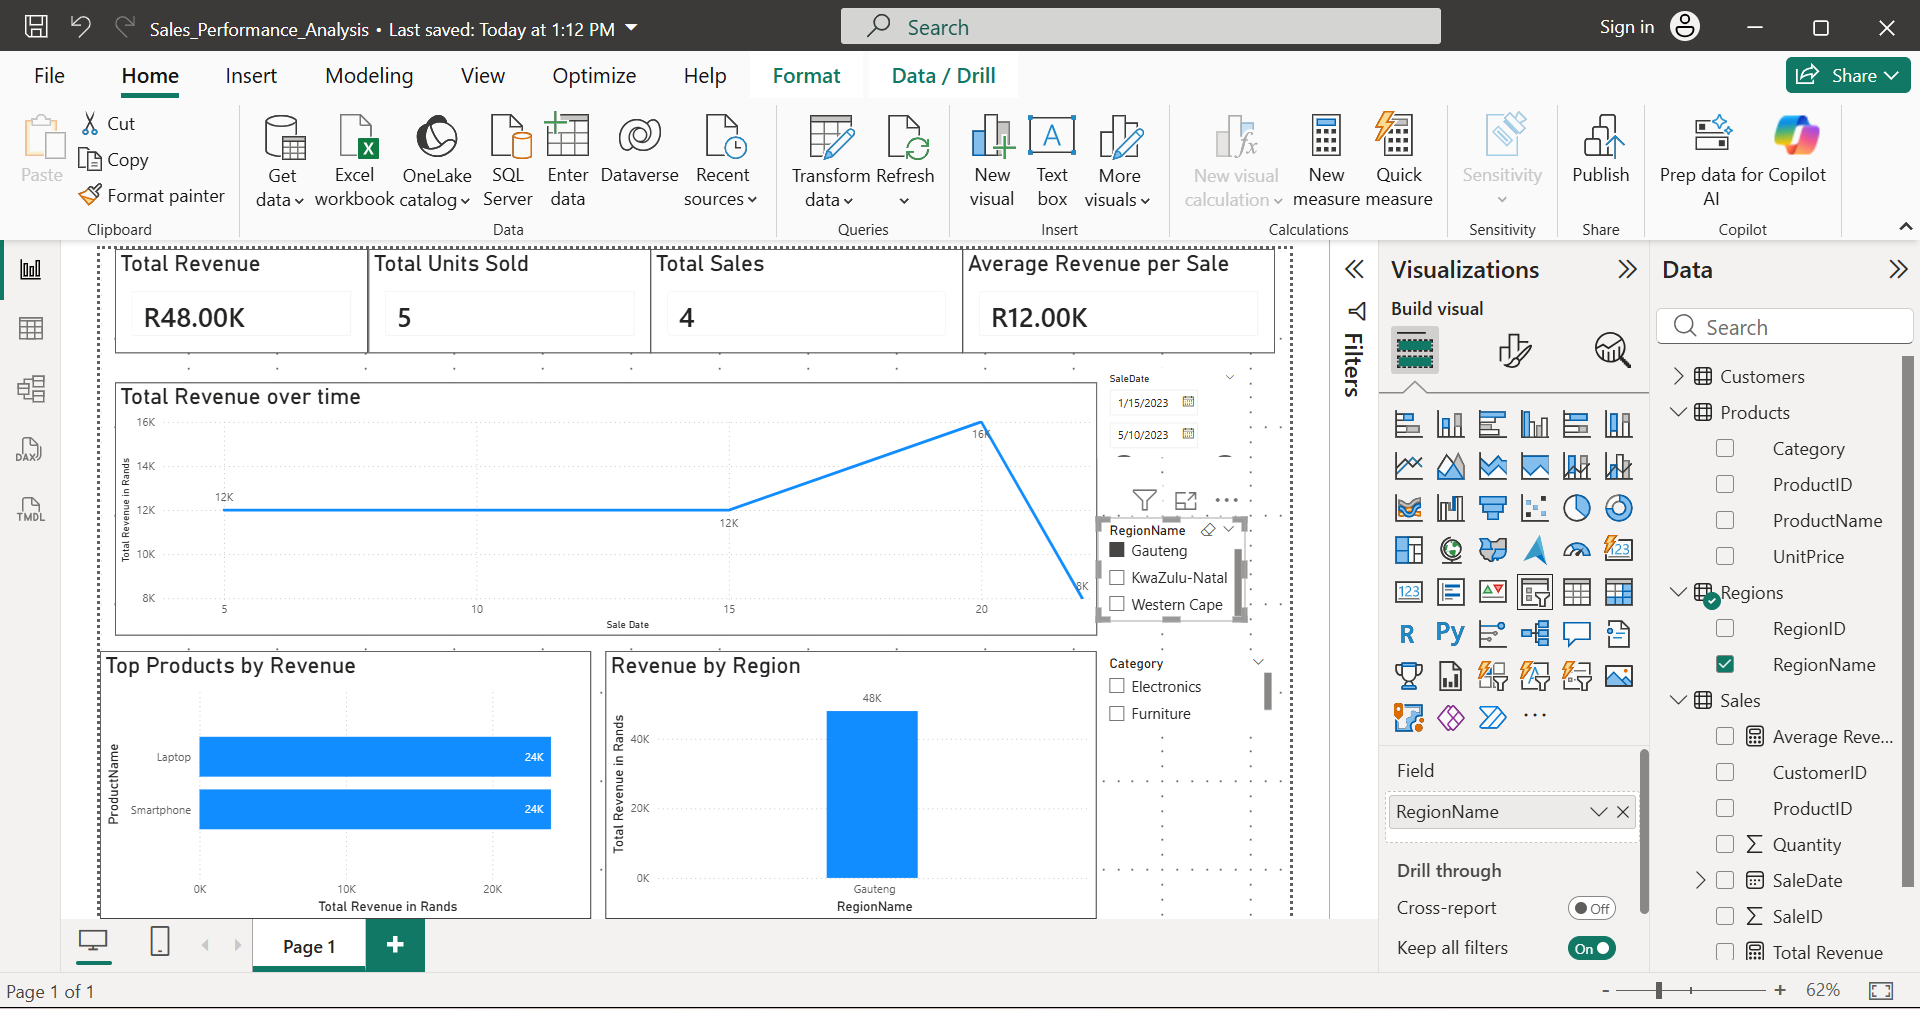

What the dashboard file says about the page in this screenshot:
{"tool":"powerbi","page":{"name":"Page 1","canvas":[1280,720],"ordinal":0},"visuals":[{"type":"cardVisual","title":"Total Revenue","fields":{"Data":["Sales.Total Revenue"]},"box":[16,0,272,112],"z":0},{"type":"cardVisual","title":"Total Units Sold","fields":{"Data":["Sales.Total Units Sold"]},"box":[288,0,304,112],"z":1000},{"type":"cardVisual","title":"Total Sales","fields":{"Data":["Sales.Total Sales"]},"box":[592,0,336,112],"z":2000},{"type":"cardVisual","title":"Average Revenue per Sale","fields":{"Data":["Sales.Average Revenue per Sale"]},"box":[928,0,336,112],"z":3000},{"type":"lineChart","title":"Total Revenue over time ","fields":{"Category":["Sales.SaleDate.Variation.Date Hierarchy.Day"],"Y":["Sales.Total Revenue"]},"box":[16,144,1056,272],"z":4000},{"type":"clusteredBarChart","title":"Top Products by Revenue","fields":{"Category":["Products.ProductName"],"Y":["Sales.Total Revenue"]},"box":[0,432,528,288],"z":6000},{"type":"clusteredColumnChart","title":"Revenue by Region","fields":{"Category":["Regions.RegionName"],"Y":["Sales.Total Revenue"]},"box":[544,432,528,288],"z":7000},{"type":"slicer","fields":{"Values":["Sales.SaleDate"]},"box":[1072,128,160,96],"z":8000},{"type":"slicer","fields":{"Values":["Regions.RegionName"]},"box":[1072,288,160,112],"z":9000},{"type":"slicer","fields":{"Values":["Products.Category"]},"box":[1072,432,192,80],"z":10000}]}

Visuals, with their boxes on the page's 1280x720 design canvas (x1, y1, x2, y2). These are canvas units, not pixel positions in the 1920x1009 screenshot, which may show the page scaled, cropped or inside an application window:
"Total Revenue" cardVisual: (16, 0, 288, 112)
"Total Units Sold" cardVisual: (288, 0, 592, 112)
"Total Sales" cardVisual: (592, 0, 928, 112)
"Average Revenue per Sale" cardVisual: (928, 0, 1264, 112)
"Total Revenue over time " lineChart: (16, 144, 1072, 416)
"Top Products by Revenue" clusteredBarChart: (0, 432, 528, 720)
"Revenue by Region" clusteredColumnChart: (544, 432, 1072, 720)
slicer - Sales.SaleDate: (1072, 128, 1232, 224)
slicer - Regions.RegionName: (1072, 288, 1232, 400)
slicer - Products.Category: (1072, 432, 1264, 512)
